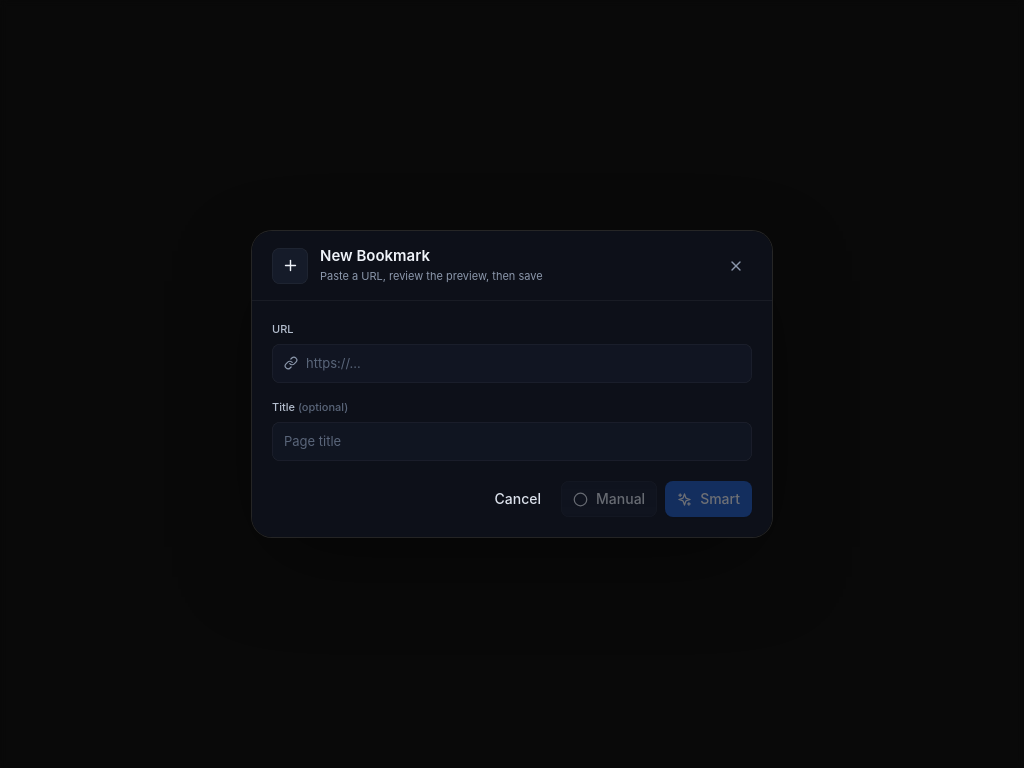
NewBookmarkDialog Manual 与 Smart 入口 › 点击 Manual 进入元数据预览且 AI 调用次数为零
Type "https://example.test/manual" into the field named "Bookmark URL" at (523, 363), box [306,354,740,373]
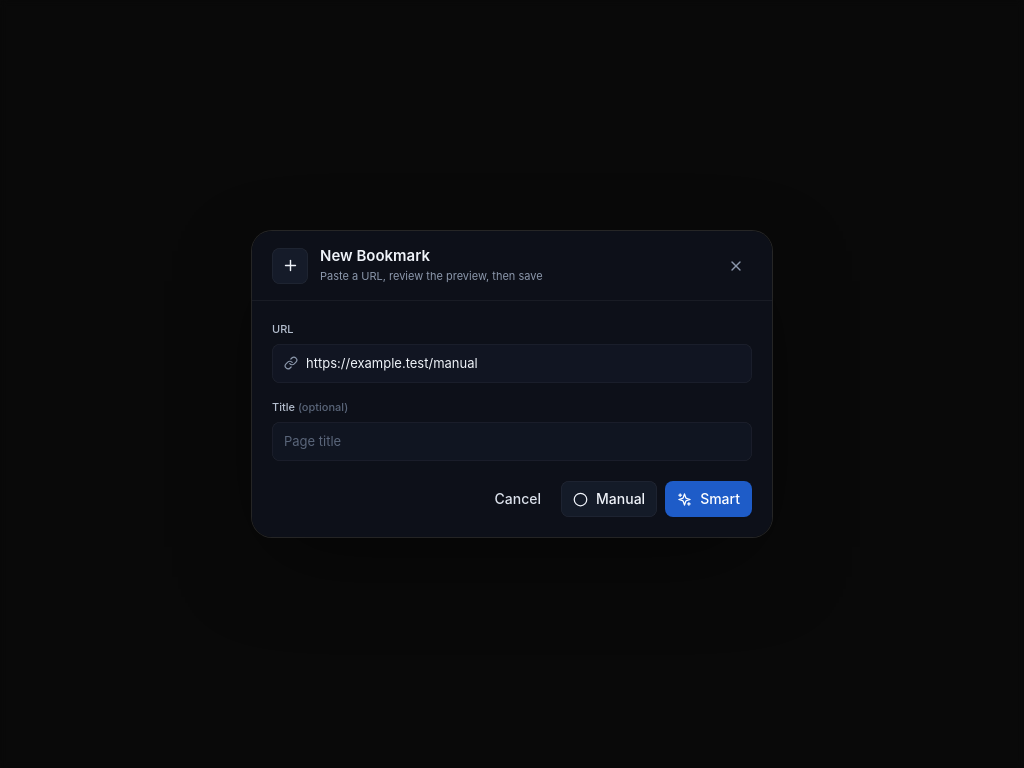
Expected: the button "Smart" is shown, [665,481,752,517]
Click the button "Manual" at (609, 499), box [561,481,657,517]
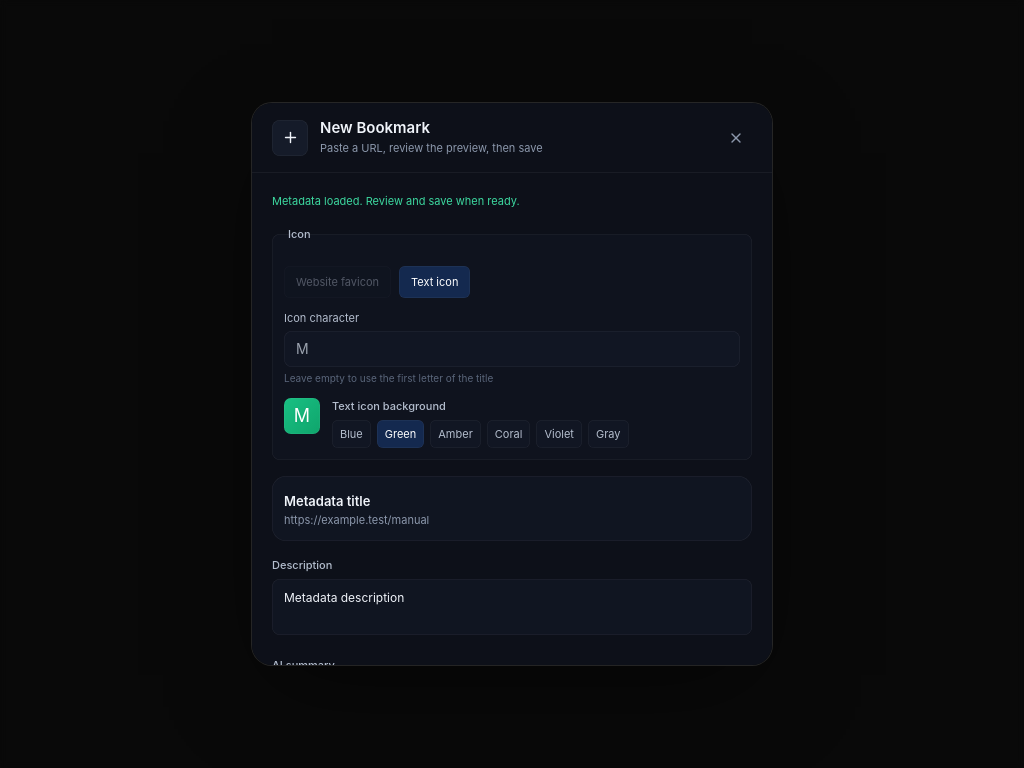
Expected: the field named "Bookmark title" holds "Metadata title", [284,492,740,512]
Expected: the text box named "Bookmark description" holds "Metadata description", [272,579,752,635]
